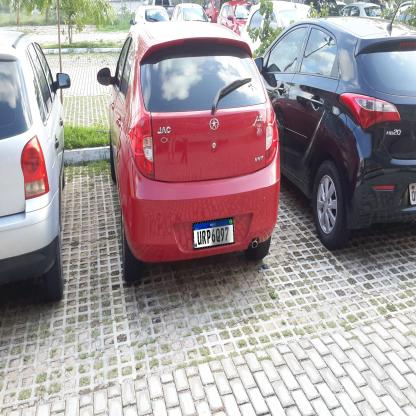PlacaM: (192, 217, 235, 250)
